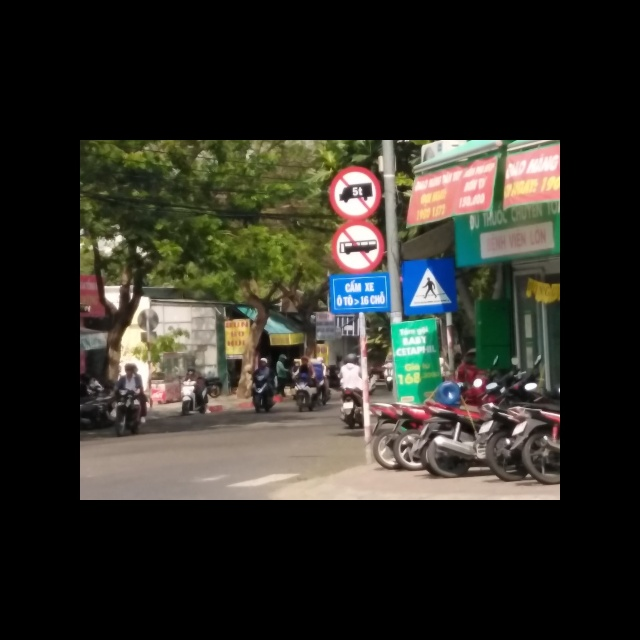Cấm xe tải: (327, 165, 380, 219)
Cấm xe xe khách: (331, 221, 385, 272)
Đường dành cho người đi bộ: (401, 261, 456, 316)
